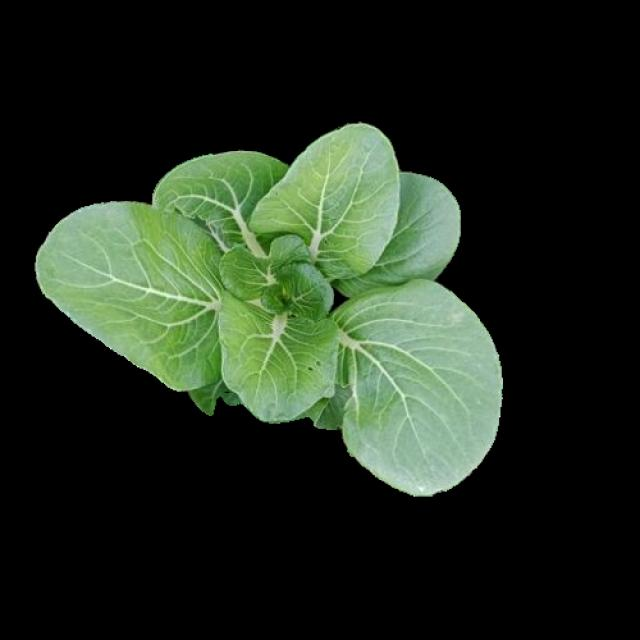mature: (41, 125, 498, 493)
unhealthy: (219, 294, 339, 422), (150, 151, 290, 256)
